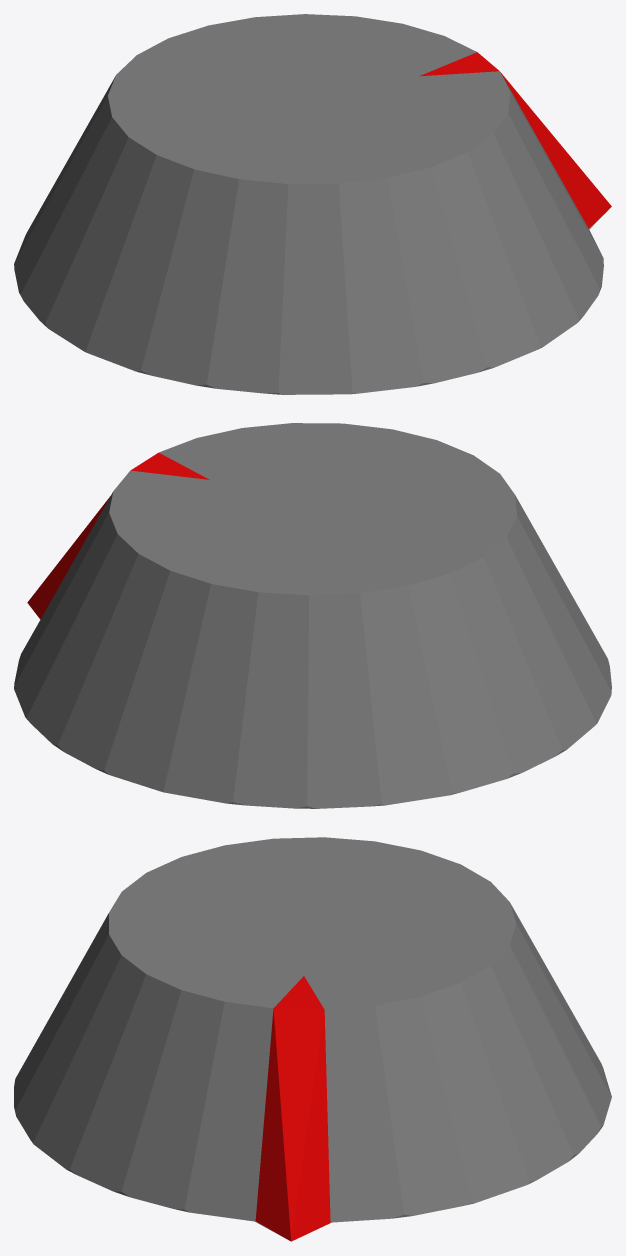
Rendered from SelectionKnob.fbx.
The picture shows the model from 3 angles, top to bottom: view 1: azimuth 30°, elevation 25°; view 2: azimuth 150°, elevation 25°; view 3: azimuth 270°, elevation 25°; orthographic projection.
Visible parts, largest first — view 1: Cone; view 2: Cone; view 3: Cone.
Part boxes in pixels (left/top/right/bottom): Cone: left=14, top=14, right=611, bottom=394; Cone: left=14, top=423, right=611, bottom=808; Cone: left=14, top=837, right=611, bottom=1241.
Bounding box in the file's own units: 214 × 63.78 × 199.
